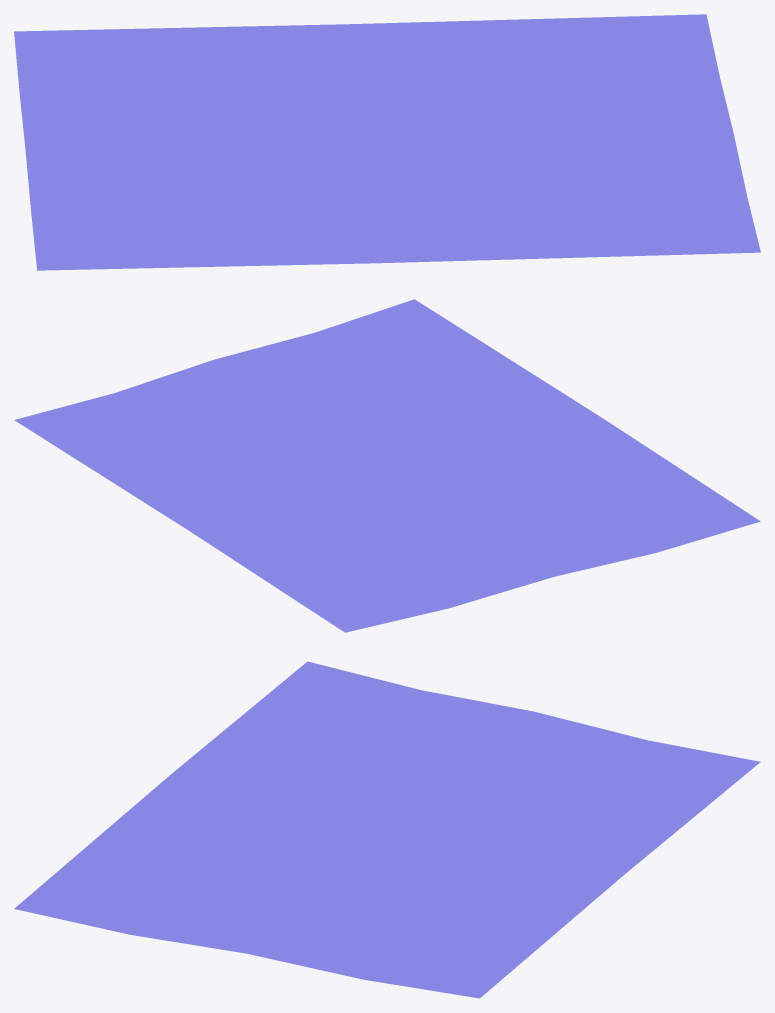
The model's file is track_la_coll_road_22.fbx.
3 renders of one model, top to bottom at view 1: azimuth 30°, elevation 25°; view 2: azimuth 150°, elevation 25°; view 3: azimuth 270°, elevation 25°, orthographic. The views are drawn at different scales.
Parts seen in each view (by area): view 1: track_la_coll_road_22; view 2: track_la_coll_road_22; view 3: track_la_coll_road_22.
Part boxes in pixels (x1,y1,x2,y2): track_la_coll_road_22: (14, 14, 760, 270); track_la_coll_road_22: (14, 299, 760, 632); track_la_coll_road_22: (14, 661, 760, 998).
Bounding box in the file's own units: 82.98 × 0.4061 × 77.71.
